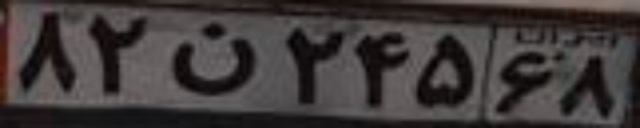2: (279, 31, 347, 106), (88, 13, 151, 93)
4: (353, 30, 412, 108)
5: (413, 33, 475, 108)
6: (489, 52, 553, 112)
8: (12, 11, 80, 90), (556, 54, 618, 116)
non: (171, 21, 256, 96)
